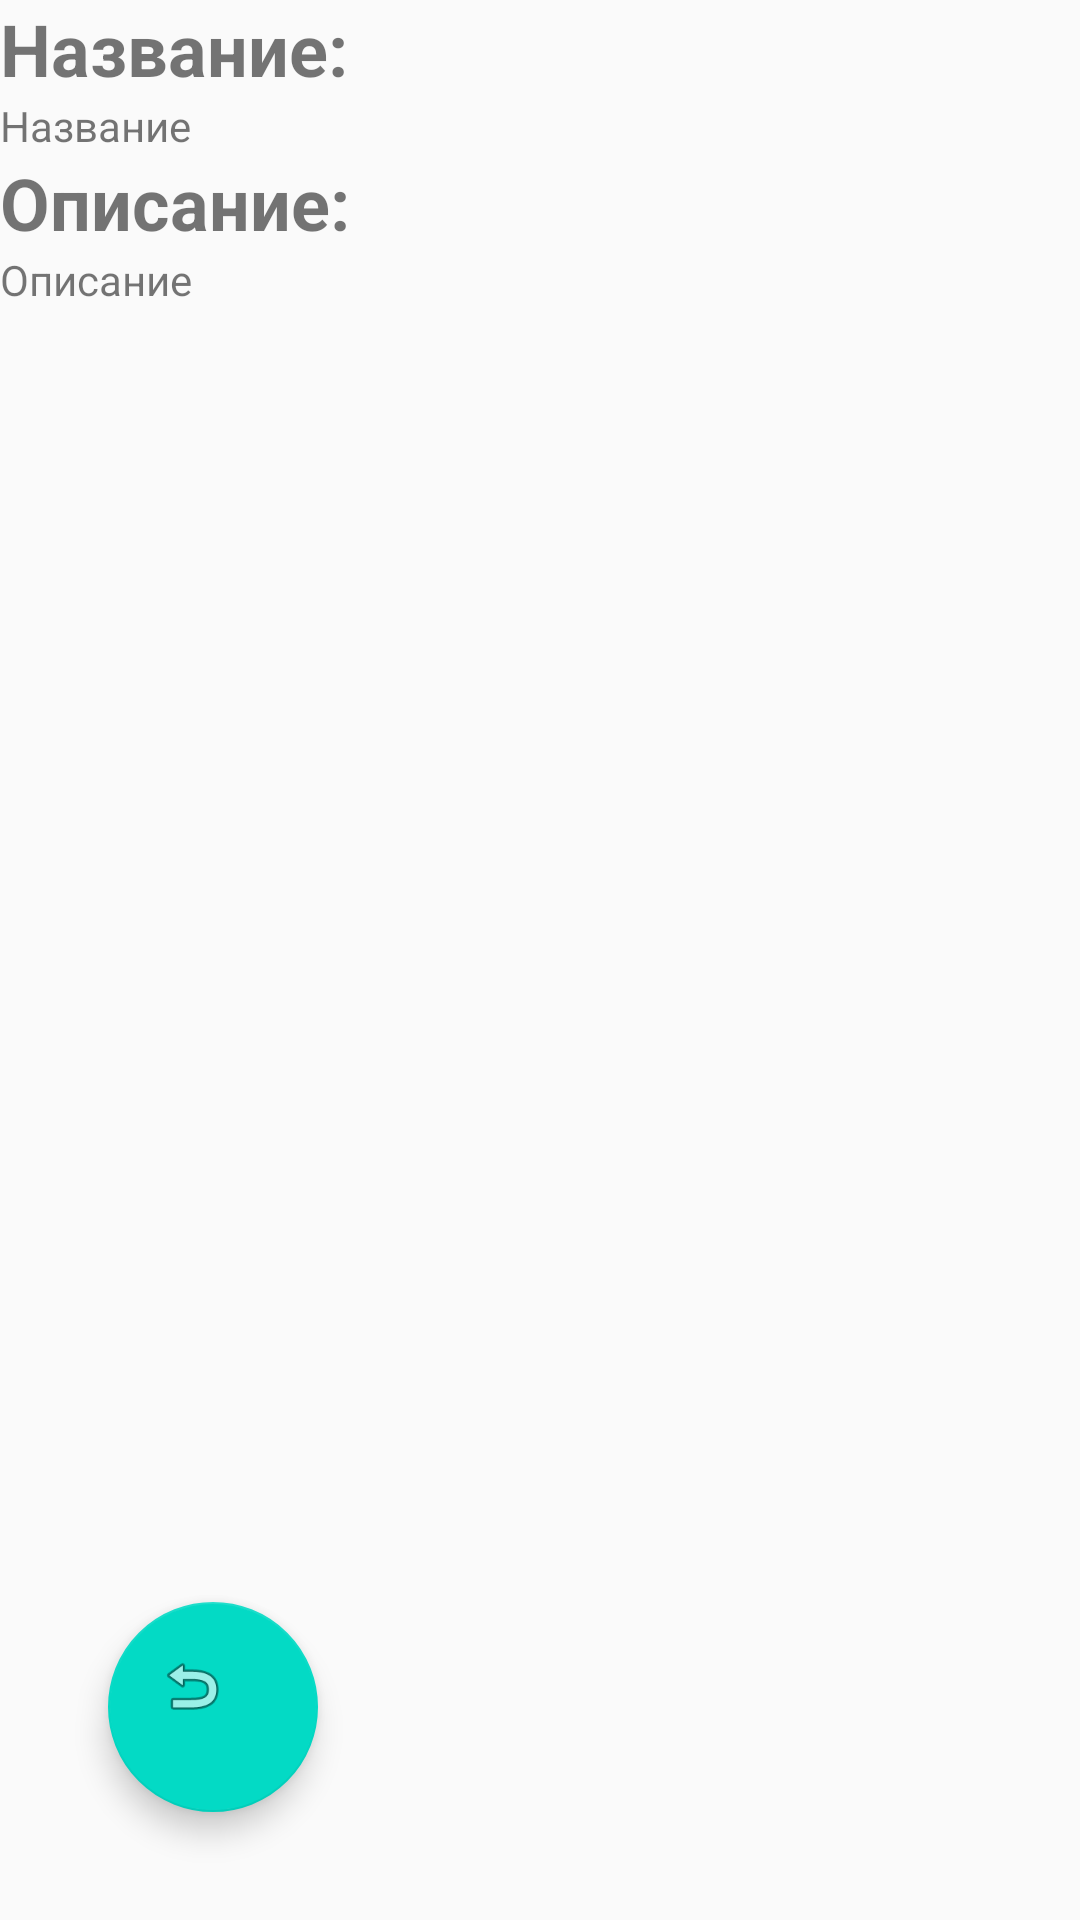

Named icons in this screenshot (1080 × 1920) and their bounding boxes, (x1, y1, x2, y2):
revert: (108, 1602, 318, 1812)
